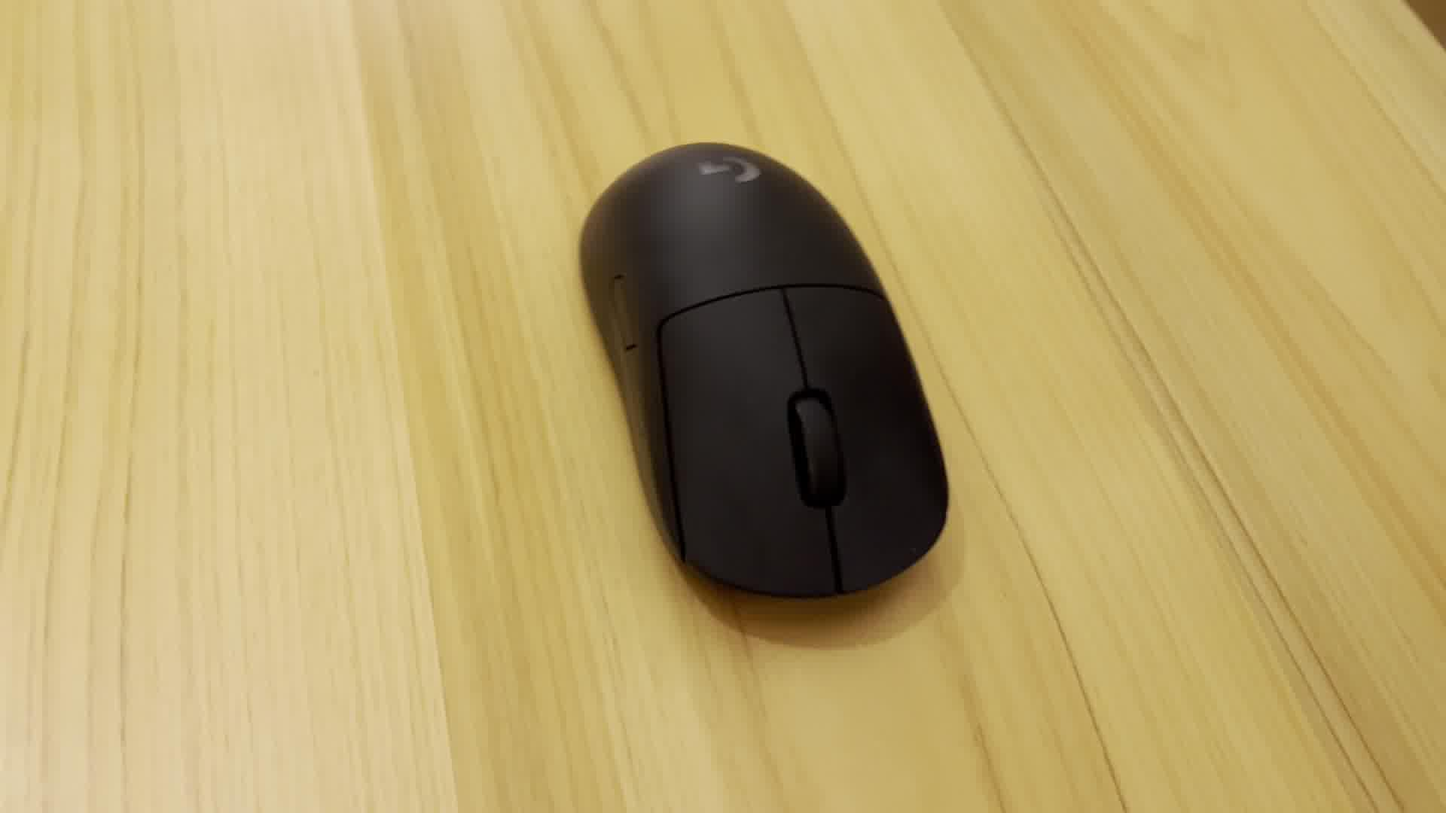logicool: (570, 132, 962, 617)
